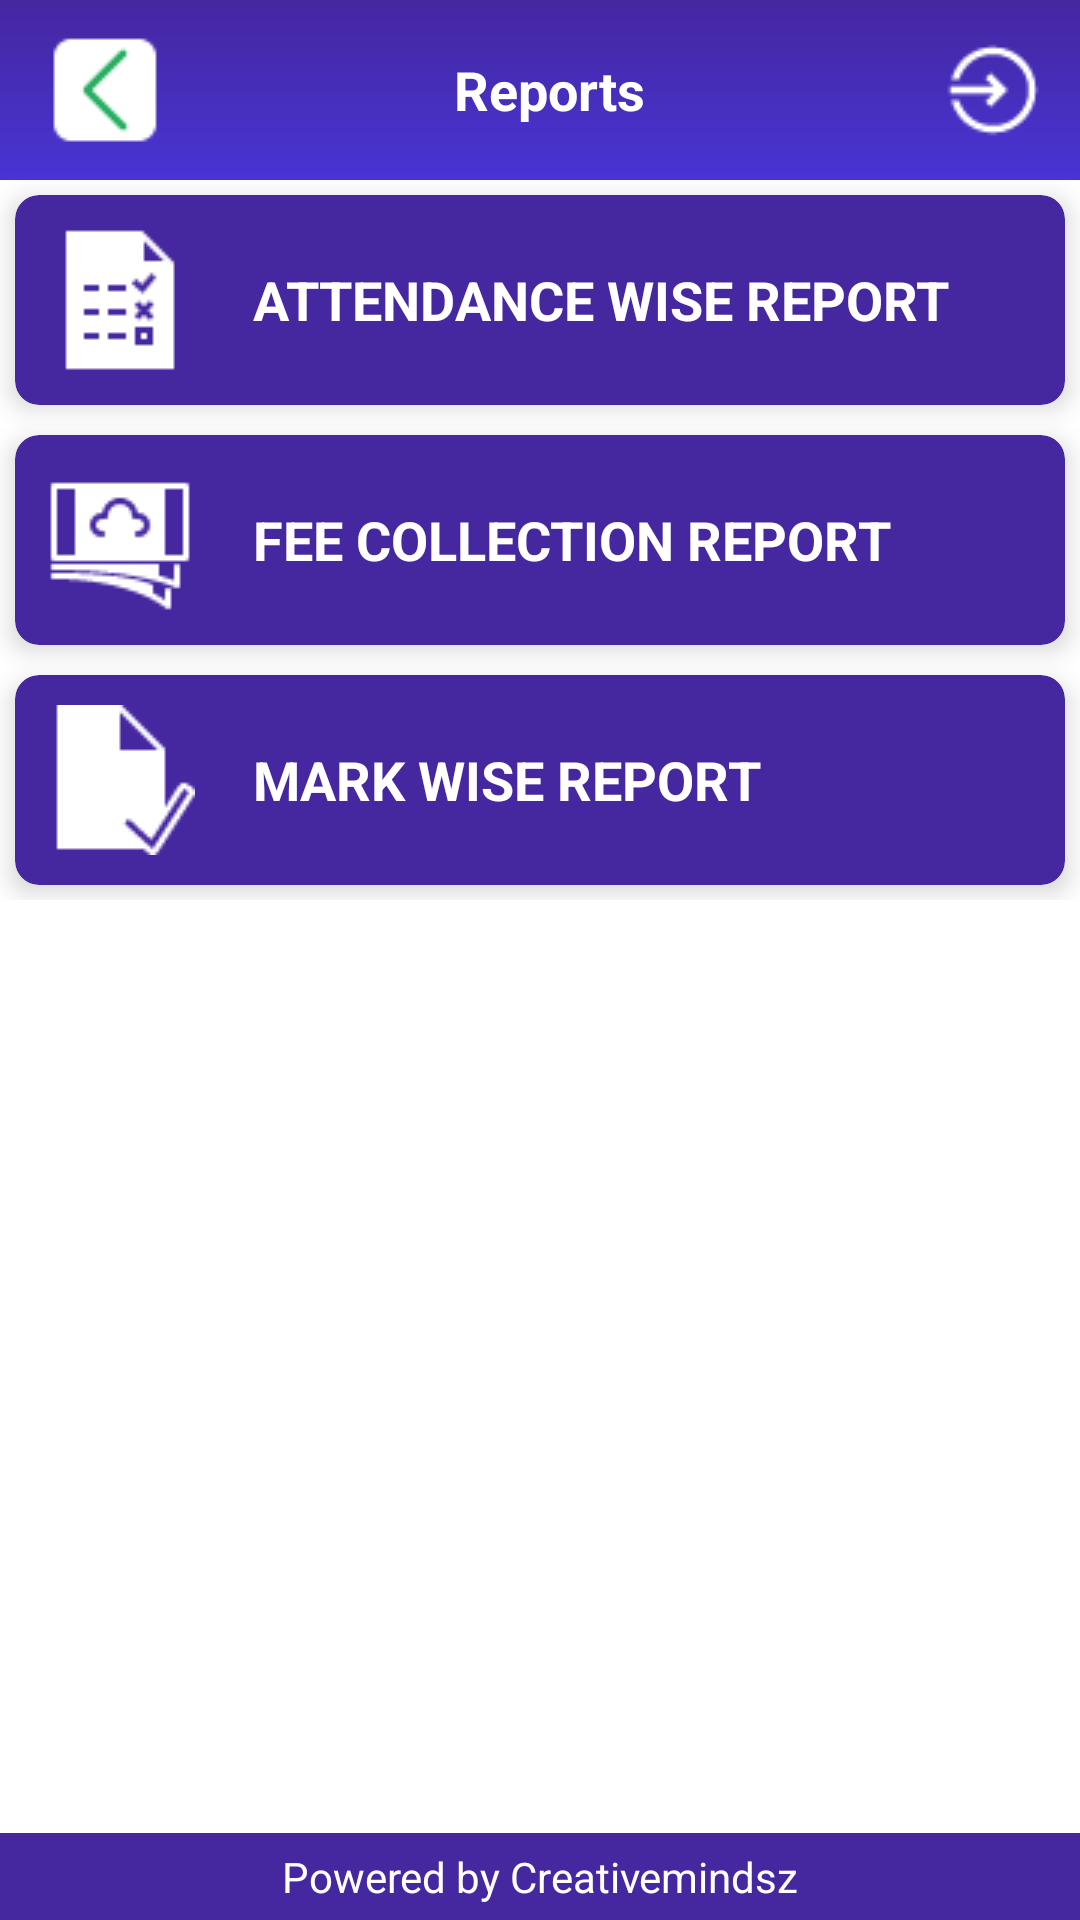

Icon click points for this 1080px×1920px phone screenshot, format [x,y]:
back: [105,92]
exit: [993,96]
